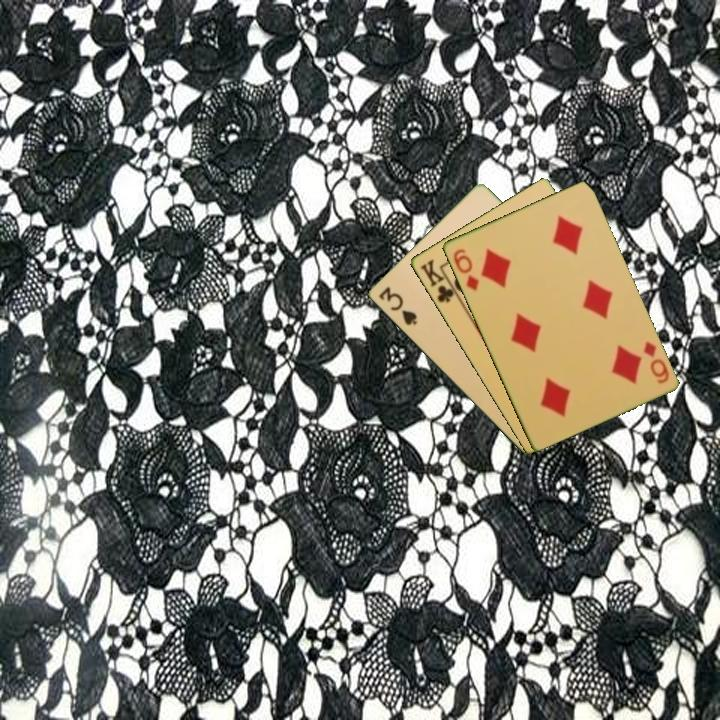3s: (375, 283, 420, 328)
6d: (639, 338, 672, 386), (449, 245, 481, 294)
Kc: (416, 255, 461, 305)
